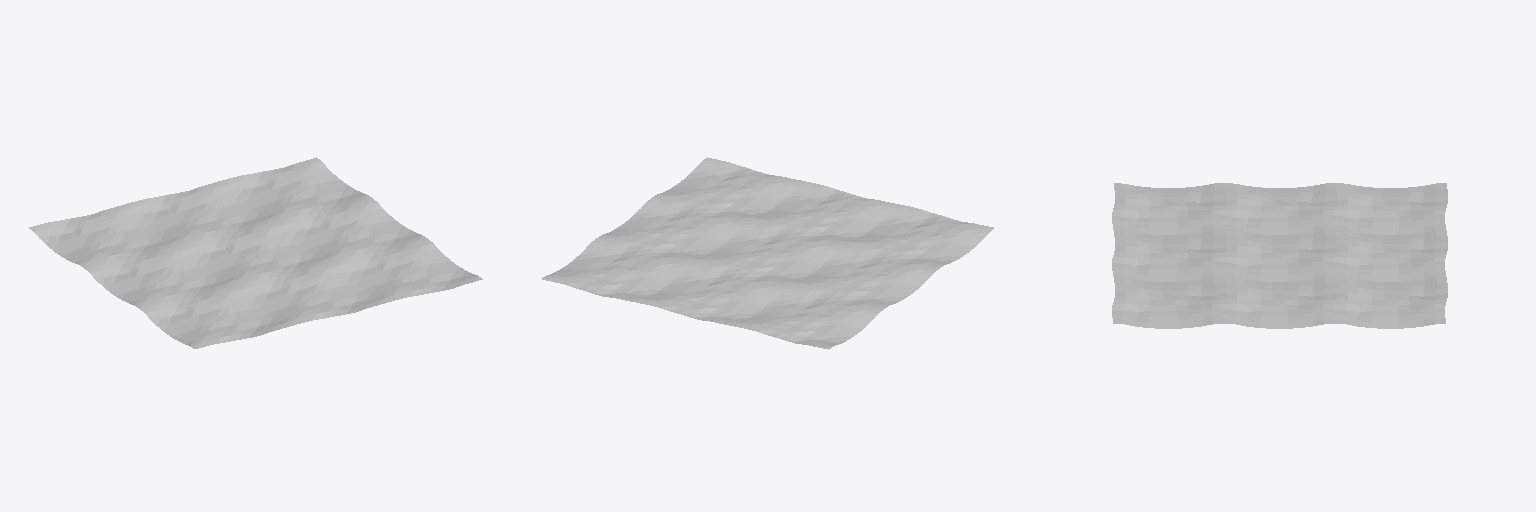
Rendered from ocean_000043.obj.
3 renders of one model, left to right at view 1: azimuth 30°, elevation 25°; view 2: azimuth 150°, elevation 25°; view 3: azimuth 270°, elevation 25°, orthographic.
Visible parts, largest first — view 1: Ocean_Plan.001; view 2: Ocean_Plan.001; view 3: Ocean_Plan.001.
Boxes of the visible parts, x1=… form: Ocean_Plan.001: x1=29, y1=157, x2=482, y2=348; Ocean_Plan.001: x1=542, y1=157, x2=993, y2=349; Ocean_Plan.001: x1=1112, y1=183, x2=1447, y2=328.
Size of the model in its own units: 109074 by 1847 by 110081.